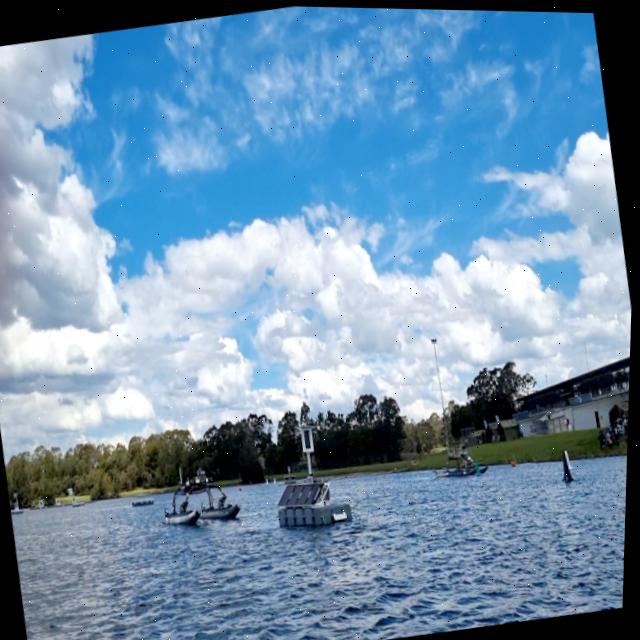led: (305, 426, 315, 450)
